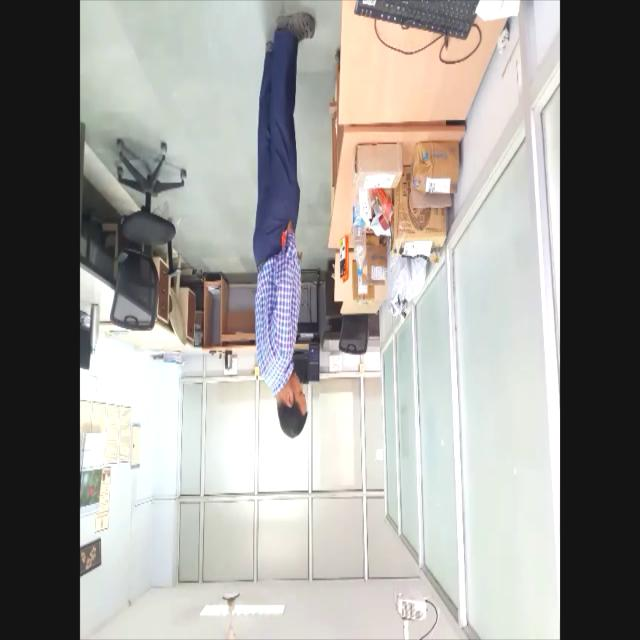shoplifting: (246, 0, 318, 443)
